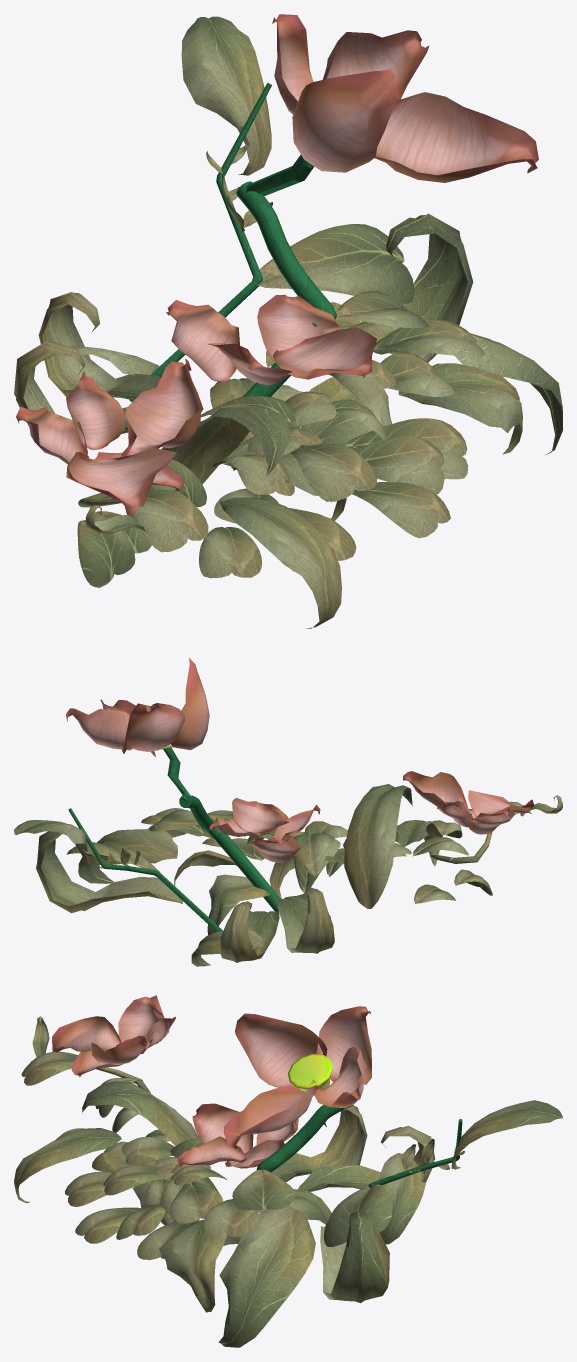
Rendered from FlowerOnRoof01.fbx.
3 renders of one model, top to bottom at view 1: azimuth 30°, elevation 25°; view 2: azimuth 150°, elevation 25°; view 3: azimuth 270°, elevation 25°, orthographic. The views are drawn at different scales.
Visible parts, largest first — view 1: polySurface3, polySurface2, polySurface1, Plane38, Plane54, Plane45, Plane35, Plane59, Plane137, Plane34, Line05, Plane47 (+26 smaller); view 2: polySurface3, Plane59, Plane35, polySurface2, polySurface1, Plane138, Plane137, Plane29, Line05, Plane178, Plane132, Line07 (+17 smaller); view 3: polySurface3, Plane29, polySurface2, Plane35, polySurface1, Plane34, Plane59, Plane138, Plane45, Plane137, Plane54, Plane65 (+18 smaller).
Boxes of the visible parts, x1=… form: polySurface3: x1=272, y1=14, x2=538, y2=182; polySurface2: x1=16, y1=358, x2=203, y2=516; polySurface1: x1=166, y1=294, x2=376, y2=385; Plane38: x1=181, y1=16, x2=271, y2=175; Plane54: x1=257, y1=224, x2=414, y2=303; Plane45: x1=219, y1=497, x2=341, y2=628; Plane35: x1=266, y1=213, x2=473, y2=366; Plane59: x1=150, y1=407, x2=290, y2=489; Plane137: x1=38, y1=292, x2=160, y2=400; Plane34: x1=398, y1=363, x2=522, y2=454; Line05: x1=236, y1=181, x2=336, y2=396; Plane47: x1=290, y1=442, x2=377, y2=501; polySurface3: x1=66, y1=658, x2=209, y2=756; Plane59: x1=344, y1=784, x2=412, y2=908; Plane35: x1=36, y1=831, x2=182, y2=912; polySurface2: x1=403, y1=771, x2=534, y2=834; polySurface1: x1=209, y1=798, x2=320, y2=862; Plane138: x1=276, y1=887, x2=334, y2=953; Plane137: x1=220, y1=901, x2=279, y2=962; Plane29: x1=78, y1=829, x2=177, y2=883; Line05: x1=179, y1=795, x2=280, y2=911; Plane178: x1=207, y1=874, x2=279, y2=934; Plane132: x1=293, y1=833, x2=334, y2=877; Line07: x1=68, y1=808, x2=222, y2=931; polySurface3: x1=223, y1=1006, x2=371, y2=1148; Plane29: x1=218, y1=1205, x2=315, y2=1347; polySurface2: x1=52, y1=995, x2=175, y2=1076; Plane35: x1=320, y1=1211, x2=389, y2=1303; polySurface1: x1=177, y1=1103, x2=298, y2=1168; Plane34: x1=159, y1=1219, x2=226, y2=1312; Plane59: x1=82, y1=1081, x2=198, y2=1146; Plane138: x1=271, y1=1105, x2=367, y2=1181; Plane45: x1=14, y1=1128, x2=121, y2=1203; Plane137: x1=297, y1=1126, x2=435, y2=1191; Plane54: x1=324, y1=1184, x2=392, y2=1246; Plane65: x1=378, y1=1153, x2=425, y2=1244.
Bounding box in the file's own units: 271 × 171 × 300.
Materials: 5 (5 with a texture image).
